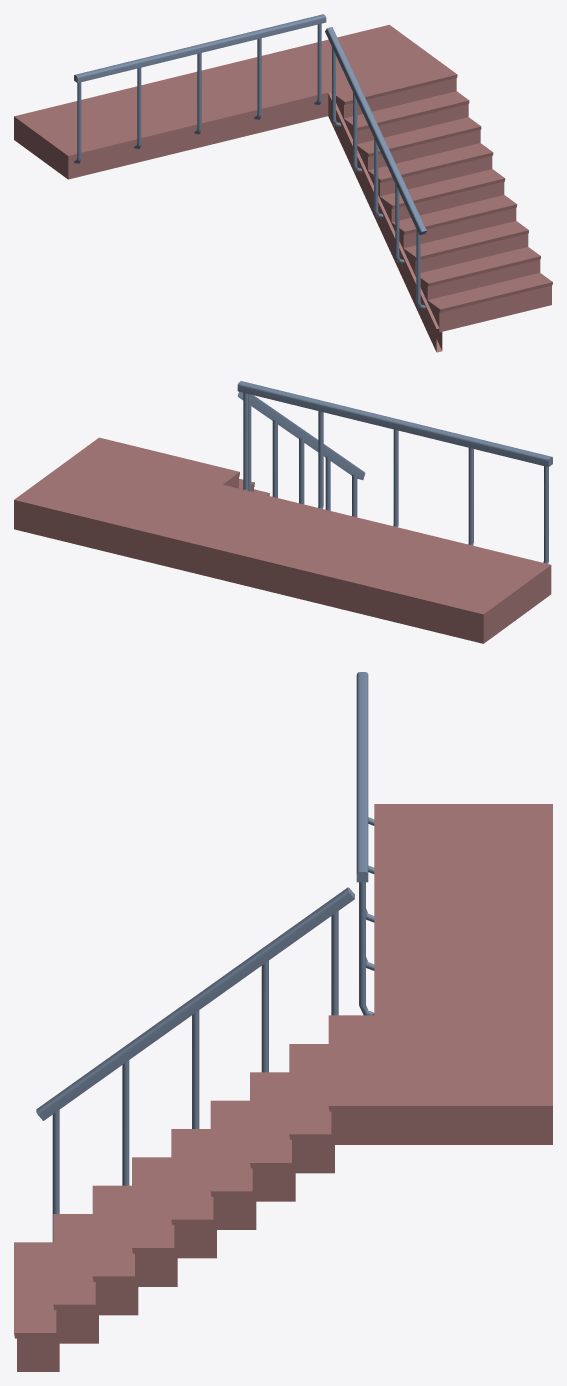
The model's file is SM_StairWell_Half_00.fbx.
3 views of the same model, one above another, from view 1: azimuth 30°, elevation 25°; view 2: azimuth 150°, elevation 25°; view 3: azimuth 270°, elevation 25° (orthographic). The views are drawn at different scales.
Visible parts, largest first — view 1: StairWell_Half_00; view 2: StairWell_Half_00; view 3: StairWell_Half_00.
Part boxes in pixels (x1=…): StairWell_Half_00: x1=14, y1=14, x2=552, y2=352; StairWell_Half_00: x1=14, y1=381, x2=552, y2=643; StairWell_Half_00: x1=14, y1=672, x2=552, y2=1371.
Size of the model in its own units: 500 by 334 by 377.
